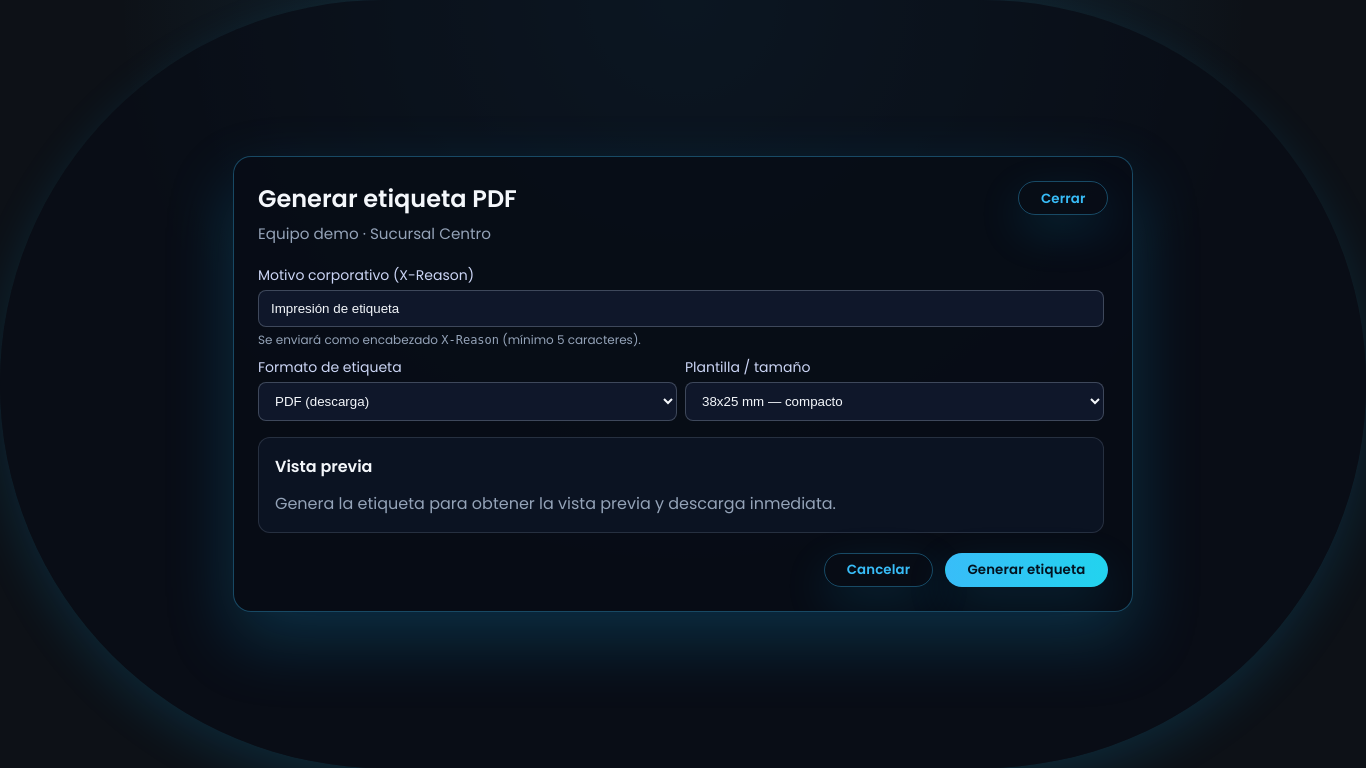
Scenario: LabelPrinter › muestra error cuando el motivo corporativo es corto
This screenshot has width=1366, height=768.
Replace the text in the field labelled "Motivo corporativo" with "abc": (681, 308) [258, 290, 1104, 326]
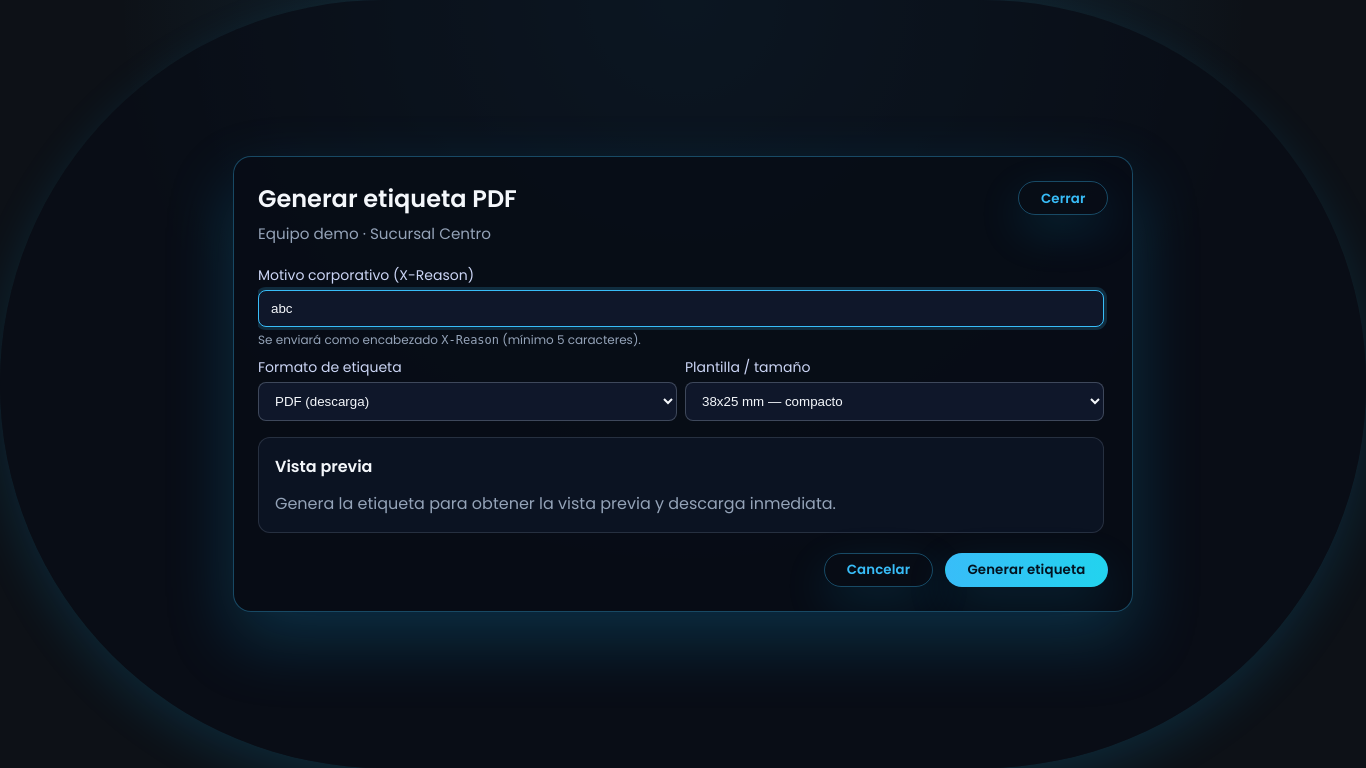
Click the button "Generar etiqueta": (1026, 570) [945, 552, 1108, 587]
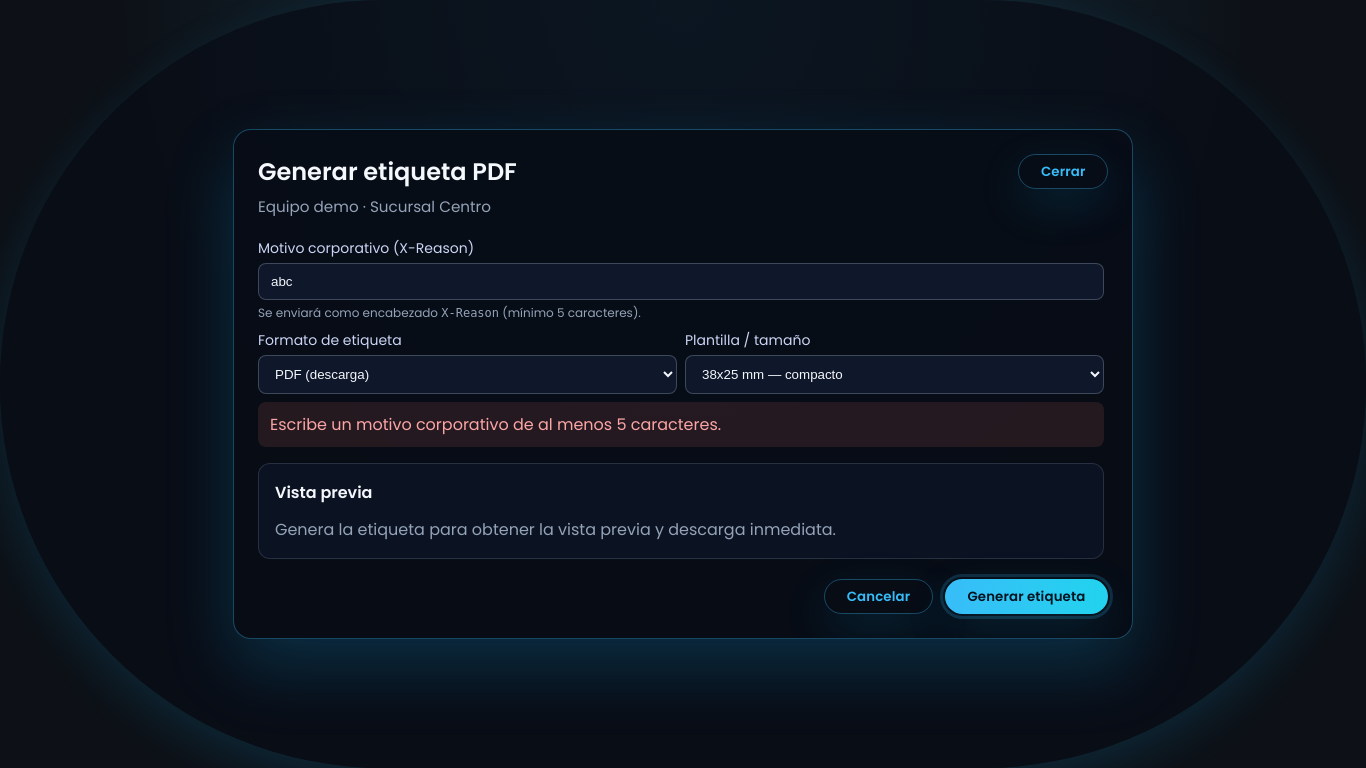
Result: the text "Escribe un motivo corporativo de al menos 5 caracteres." is shown at [258, 402, 1104, 447]
